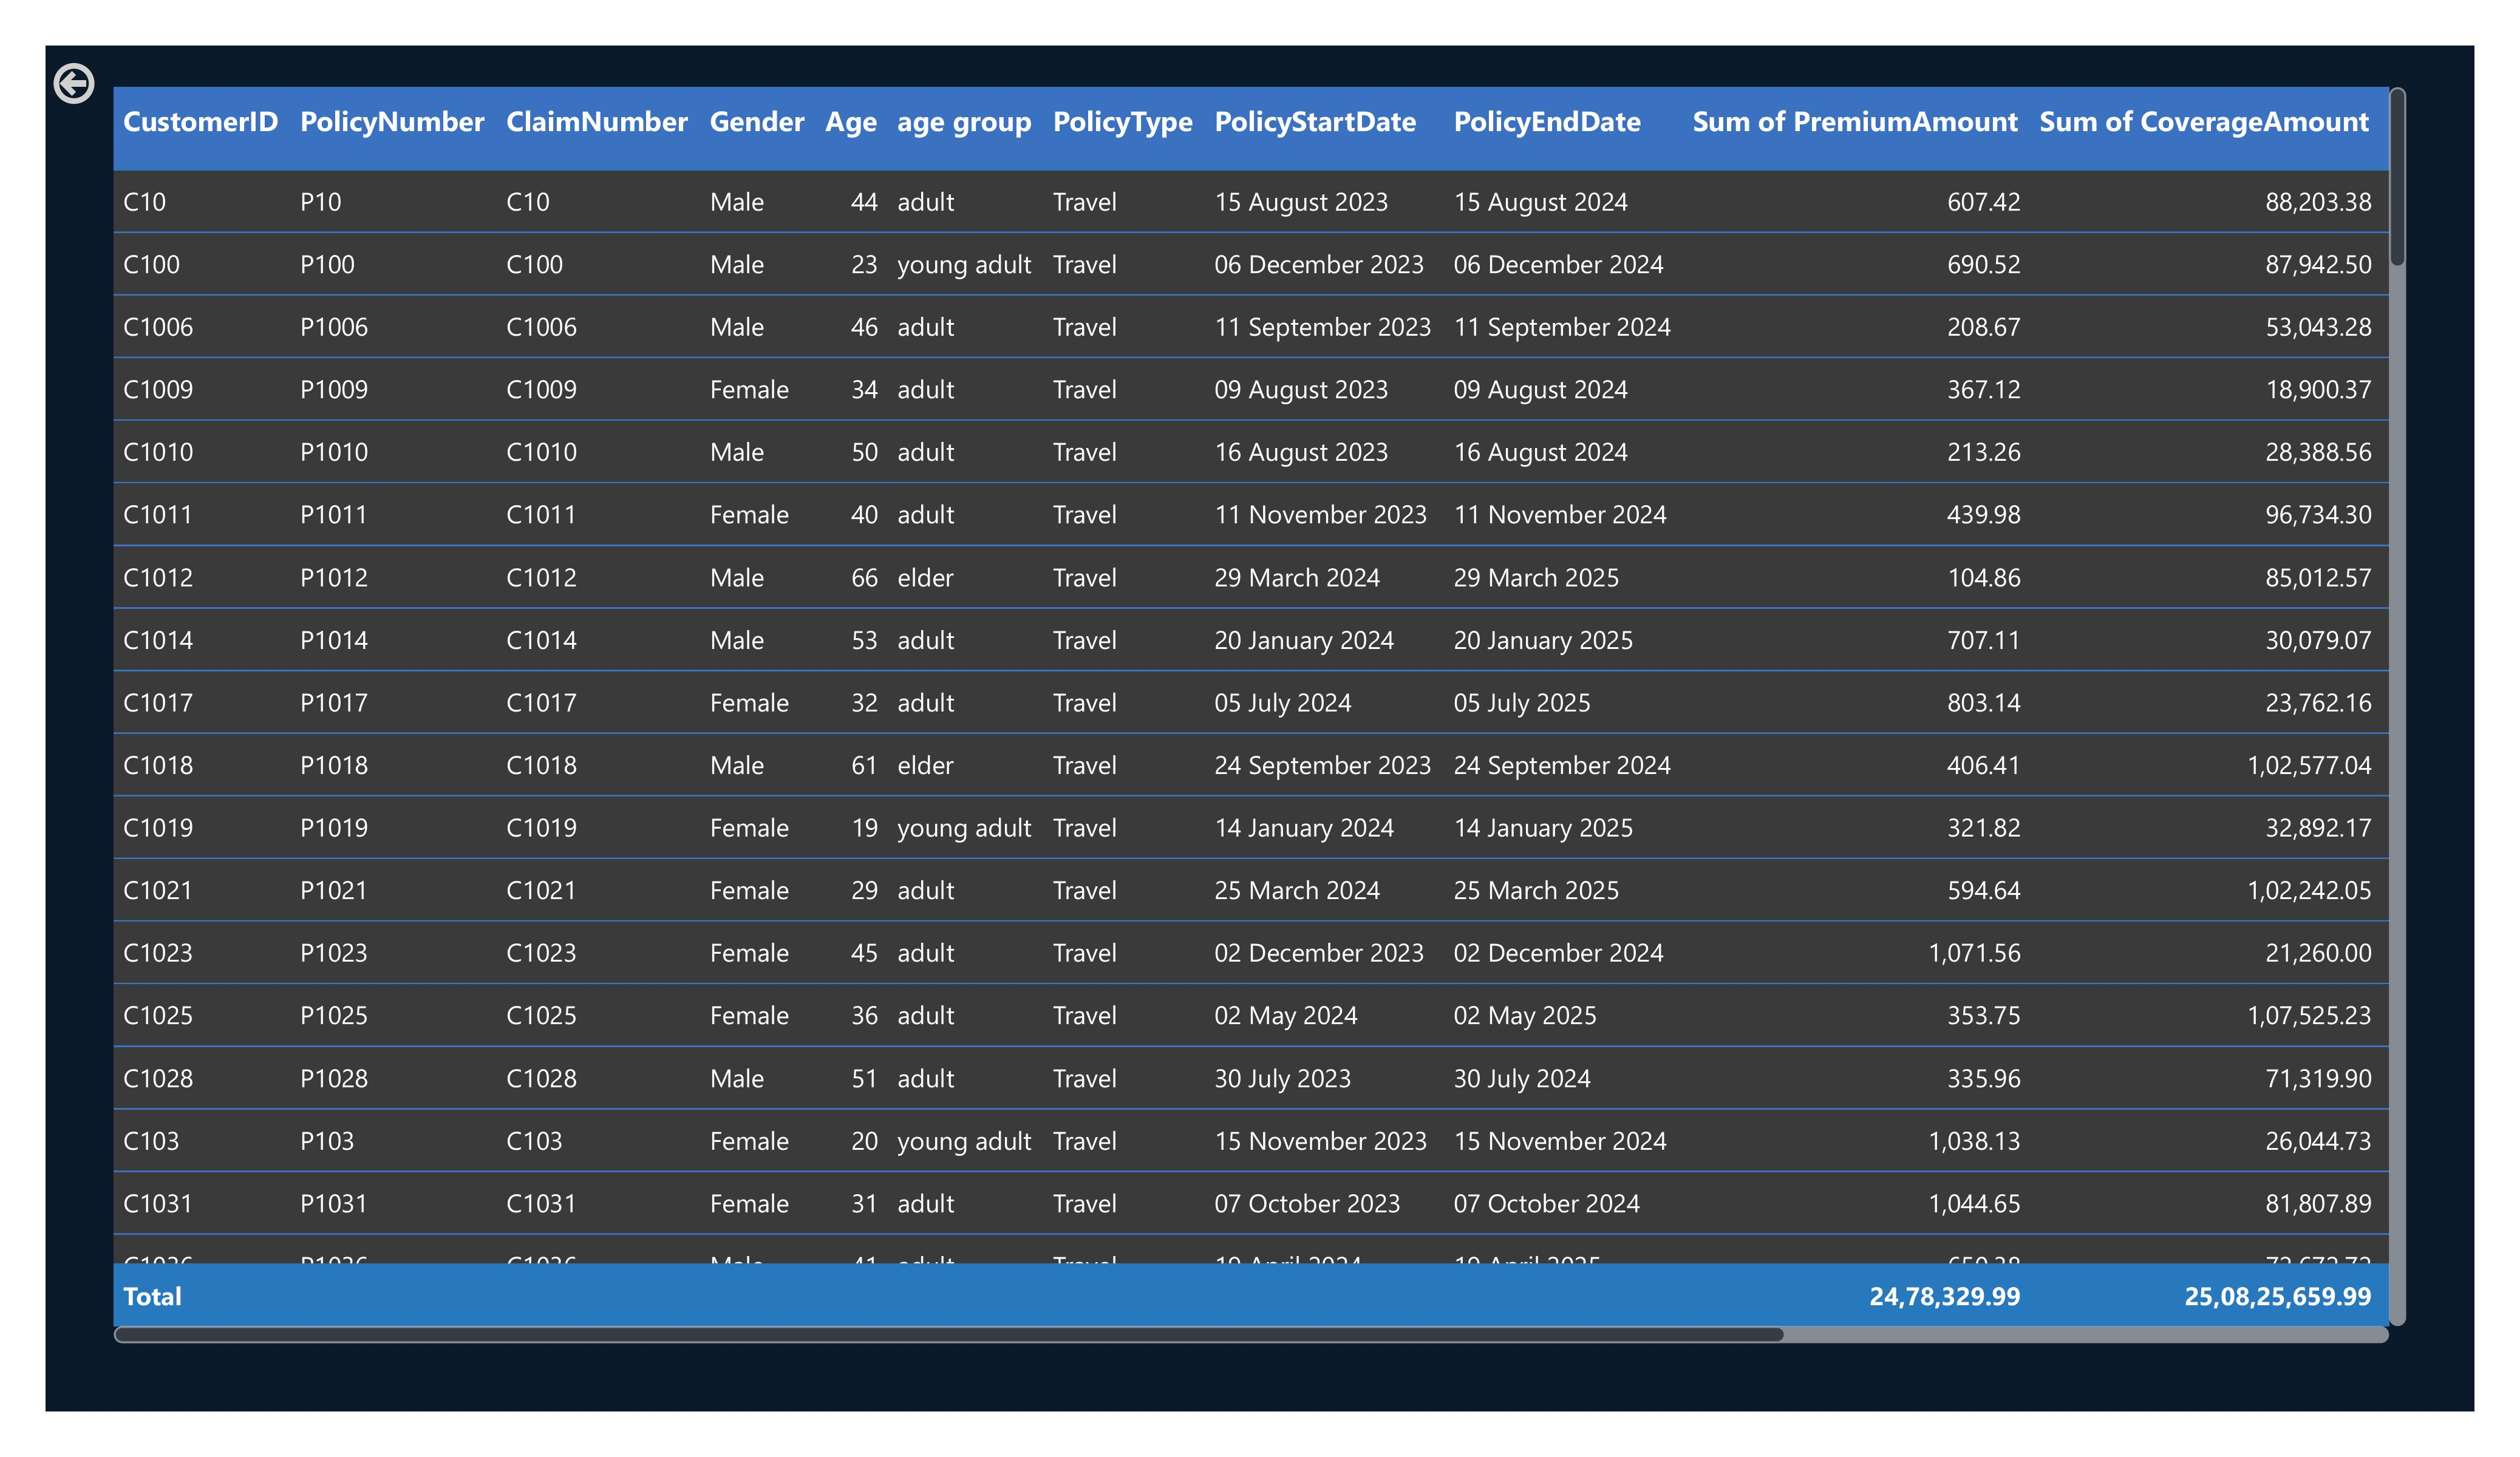

What the dashboard file says about the page in this screenshot:
{"tool":"powerbi","page":{"name":"Page 2","canvas":[1280,720],"ordinal":1},"visuals":[{"type":"tableEx","fields":{"Values":["InsuranceData (1).CustomerID","InsuranceData (1).PolicyNumber","InsuranceData (1).ClaimNumber","InsuranceData (1).Gender","InsuranceData (1).Age","InsuranceData (1).age group","InsuranceData (1).PolicyType","InsuranceData (1).PolicyStartDate","InsuranceData (1).PolicyEndDate","Sum(InsuranceData (1).PremiumAmount)","Sum(InsuranceData (1).CoverageAmount)","Sum(InsuranceData (1).ClaimAmount)"]},"box":[10,11.4,1270,708.6],"z":0}]}

Visuals, with their boxes in screenshot pixels (x1, y1, x2, y2):
tableEx - InsuranceData (1).CustomerID x InsuranceData (1).PolicyNumber: bbox=(0, 35, 2465, 1411)
